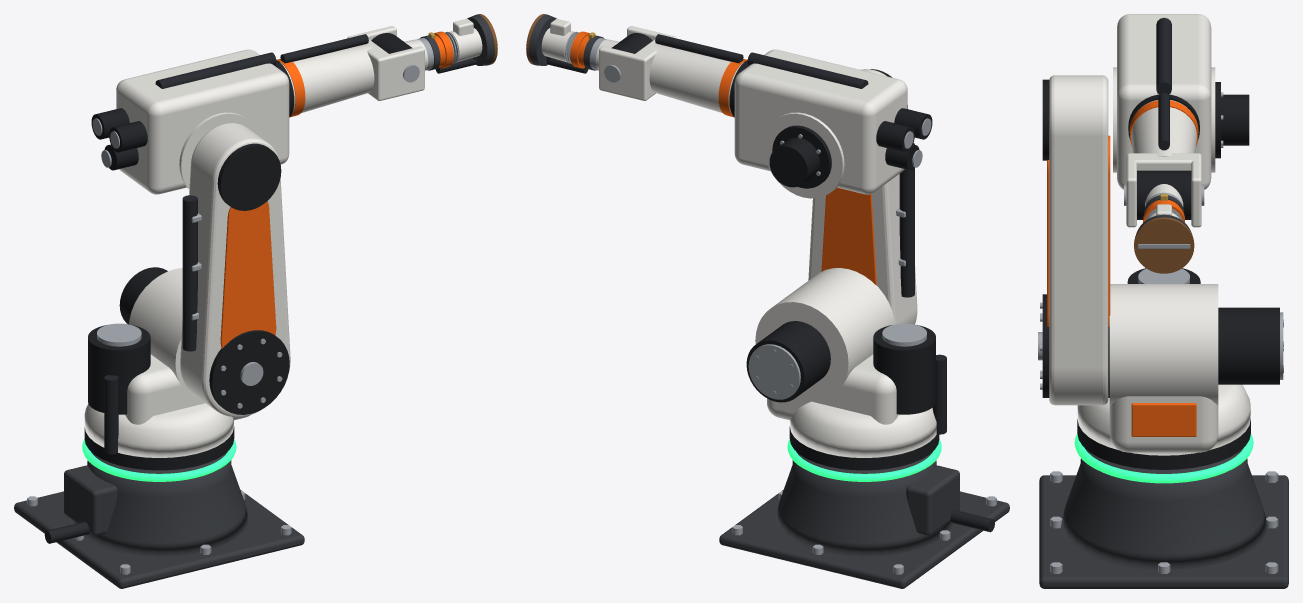
The model's file is robot_sanding.glb.
3 renders of one model, left to right at view 1: azimuth 30°, elevation 25°; view 2: azimuth 150°, elevation 25°; view 3: azimuth 270°, elevation 25°, orthographic. The views are drawn at different scales.
Visible parts, largest first — view 1: Pedestal_base, Link3_body, Link1_body, Link2_body, Link2_joint, Link4_body, Link2_accent, Link1_joint, Link2_hose, Link3_joint, Pedestal_joint, StatusRing (+9 smaller); view 2: Pedestal_base, Link1_body, Link3_body, Link1_joint, Link4_body, Link3_joint, Link2_body, Link2_accent, Link1_steel, Pedestal_joint, Link2_hose, StatusRing (+7 smaller); view 3: Pedestal_base, Link2_body, Link1_body, Link3_body, Link1_joint, Link4_body, Pedestal_joint, PadMesh_grit, Link1_accent, StatusRing, Link3_joint, Link5_joint (+8 smaller).
Boxes of the visible parts, x1,y1,x2,y2 form: Pedestal_base: (14, 451, 304, 588); Link3_body: (116, 49, 289, 194); Link1_body: (84, 268, 250, 457); Link2_body: (180, 123, 290, 417); Link2_joint: (209, 143, 289, 414); Link4_body: (280, 26, 424, 113); Link2_accent: (220, 201, 276, 348); Link1_joint: (88, 267, 167, 414); Link2_hose: (182, 195, 197, 351); Link3_joint: (91, 108, 147, 170); Pedestal_joint: (84, 426, 234, 470); StatusRing: (82, 439, 236, 481); Pedestal_base: (719, 451, 1009, 588); Link1_body: (755, 268, 936, 457); Link3_body: (734, 49, 907, 198); Link1_joint: (746, 321, 935, 414); Link4_body: (599, 26, 743, 113); Link3_joint: (769, 108, 932, 188); Link2_body: (808, 69, 917, 324); Link2_accent: (821, 187, 876, 285); Link1_steel: (748, 323, 926, 399); Pedestal_joint: (789, 426, 939, 470); Link2_hose: (899, 143, 914, 297); StatusRing: (787, 439, 941, 481); Pedestal_base: (1039, 448, 1288, 588); Link2_body: (1049, 75, 1108, 405); Link1_body: (1077, 284, 1250, 455); Link3_body: (1113, 14, 1215, 189); Link1_joint: (1127, 268, 1279, 384); Link4_body: (1126, 100, 1201, 227); Pedestal_joint: (1077, 419, 1250, 469); PadMesh_grit: (1134, 217, 1194, 273); Link1_accent: (1131, 403, 1196, 436); StatusRing: (1074, 434, 1253, 483); Link3_joint: (1215, 82, 1249, 158); Link5_joint: (1137, 170, 1191, 219).
Size of the model in its own units: 2.27 by 2.19 by 0.955.
